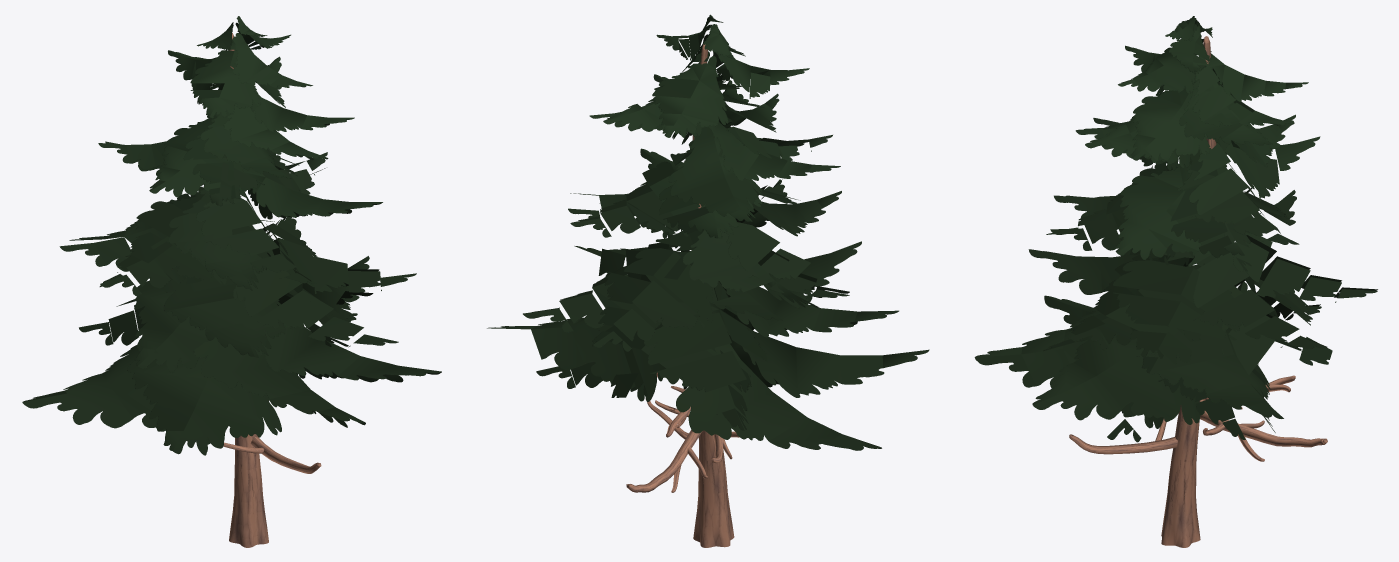
File: pinheiro-andares.glb
3 views of the same model, side by side, from view 1: azimuth 30°, elevation 25°; view 2: azimuth 150°, elevation 25°; view 3: azimuth 270°, elevation 25° (orthographic). The views are drawn at different scales.
Bounding box in the file's own units: 5.67 × 7.41 × 5.37.
Materials: 6 (6 with a texture image).
